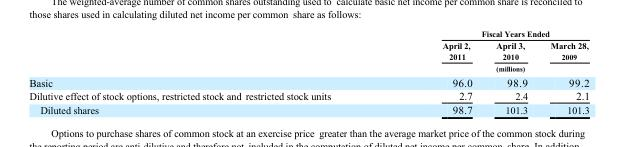table: (28, 28, 588, 115)
table column: (28, 28, 386, 115), (386, 28, 483, 115), (483, 28, 538, 115), (538, 28, 588, 115)
table column header: (28, 28, 588, 74)
table row: (28, 39, 588, 74), (28, 74, 588, 88), (28, 88, 588, 102), (28, 102, 588, 115), (28, 28, 588, 39)
table spanning cell: (386, 28, 588, 39)
